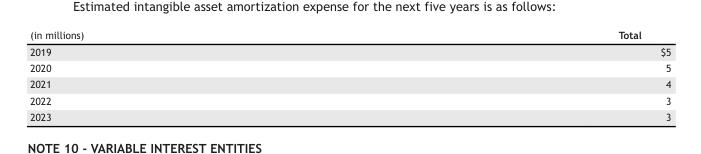table: (29, 28, 670, 122)
table column: (29, 28, 350, 122), (350, 28, 670, 122)
table column header: (29, 28, 670, 42)
table row: (29, 42, 670, 59), (29, 75, 670, 92), (29, 59, 670, 75), (29, 92, 670, 108), (29, 28, 670, 42), (29, 108, 670, 122)
